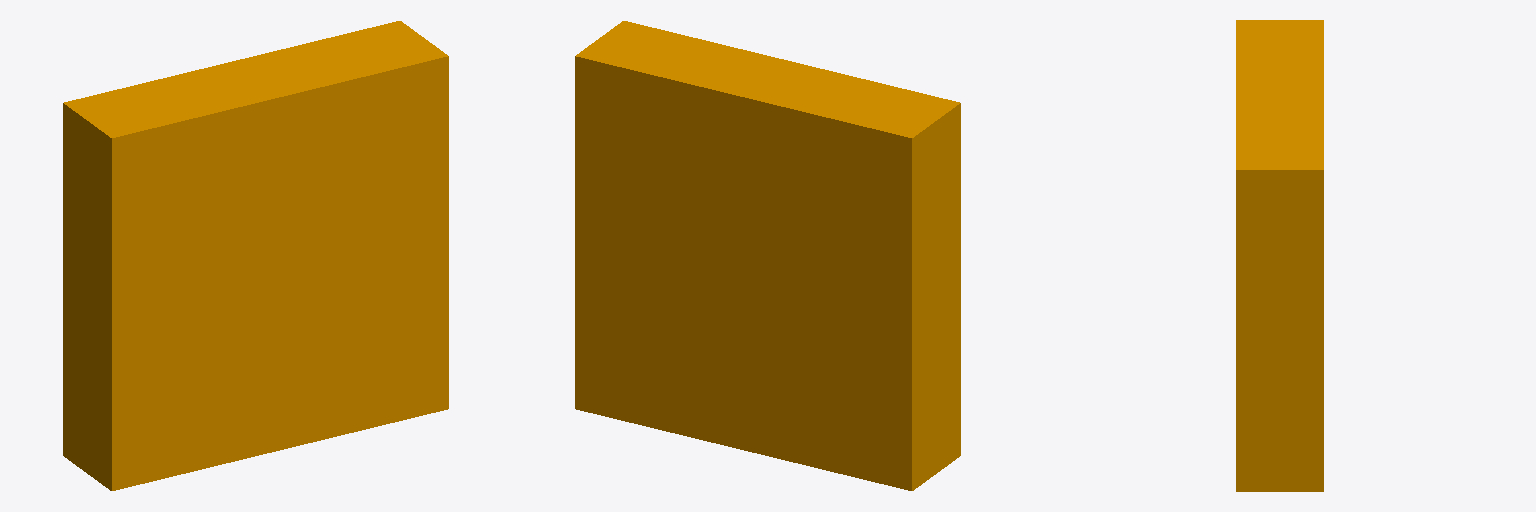
URDF robot description (mylittlerobot):
<?xml version="1.0"?>
<robot name="mylittlerobot">
	<link name="base_link">
		<visual>
			<geometry>
				<box size="0.2 0.05 0.2"/>
			</geometry>
		</visual>
	</link>
</robot>

--- Render facts (derived) ---
3 views of the same robot in one strip: view 1: azimuth 30°, elevation 25°; view 2: azimuth 150°, elevation 25°; view 3: azimuth 270°, elevation 25° (orthographic).
Model mylittlerobot with 1 links and 0 joints (none), rooted at base_link, posed all joints at 0.
Visible links, largest first — view 1: base_link; view 2: base_link; view 3: base_link.
Link boxes in pixels (left/top/right/bottom): base_link: left=63, top=21, right=448, bottom=490; base_link: left=575, top=21, right=960, bottom=490; base_link: left=1236, top=20, right=1323, bottom=491.
Size in the robot's own frame: 0.2 by 0.05 by 0.2 metres.
Geometry: primitives only (box / cylinder / sphere), no mesh files.